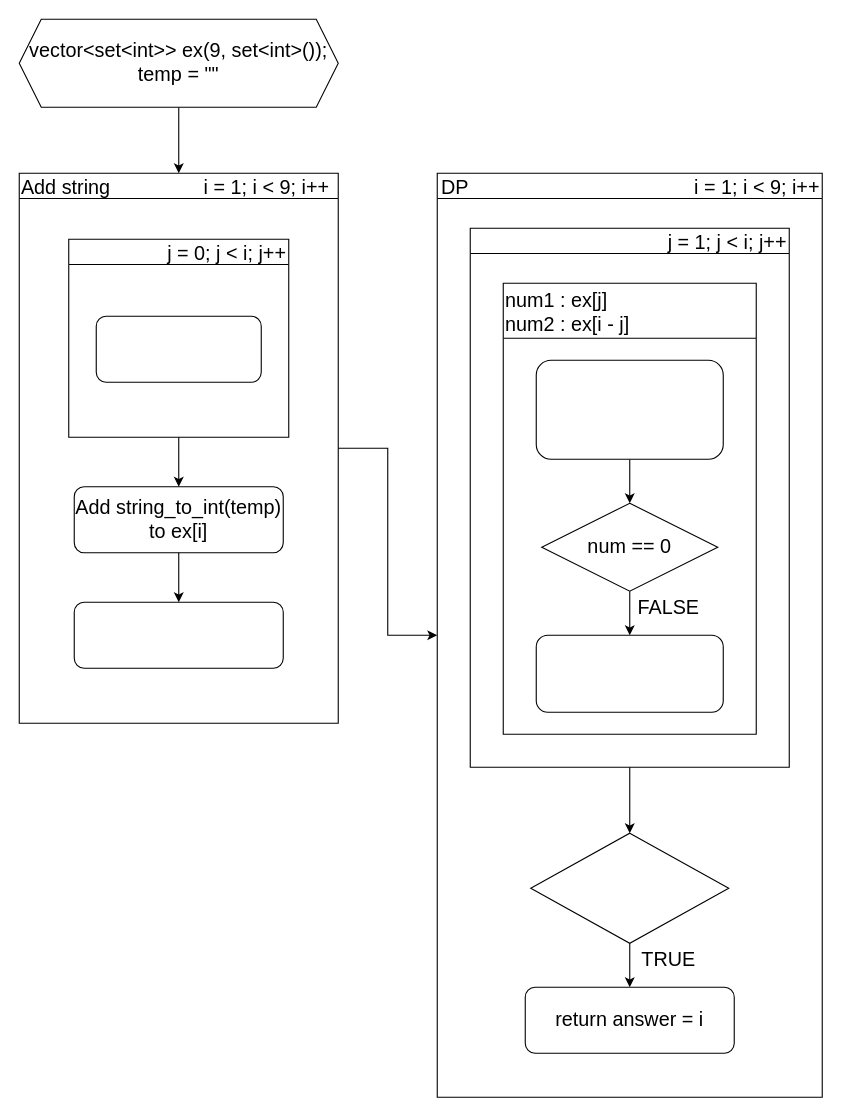
The diagram is 842 pixels wide and 1117 high, and some of its shapes have lost their labels. Each missing label, with the centre of its shape:
"Initialize a string variable to empty string" belongs at pixel 178 634.
"Insert num1 + num2 Insert num1 - num2 Insert num1 * num2" belongs at pixel 629 409.
"Insert num1 / num2" belongs at pixel 629 673.
"number in ex[i]" belongs at pixel 629 887.
"temp += string(N)" belongs at pixel 178 348.
